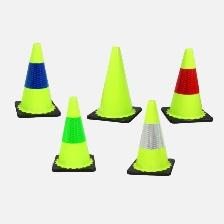traffic cone: (86, 46, 142, 123), (161, 48, 213, 123), (126, 99, 175, 176), (15, 41, 61, 118), (52, 95, 96, 172)
